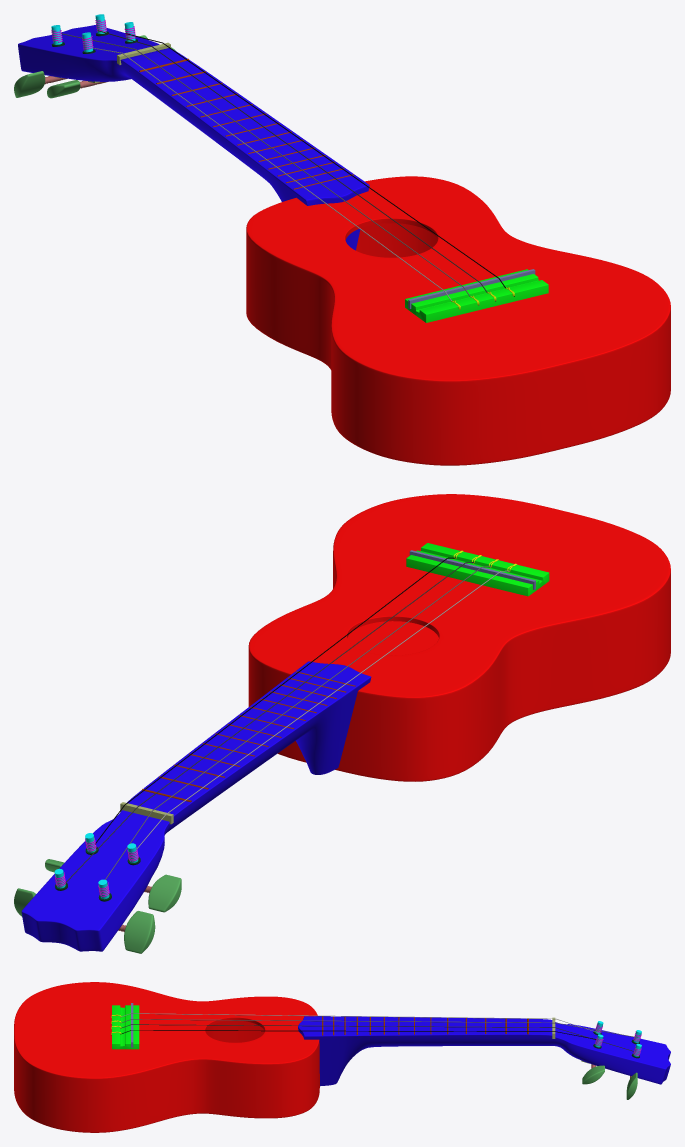
The model's file is UKELELE.FBX.
3 renders of one model, top to bottom at view 1: azimuth 30°, elevation 25°; view 2: azimuth 150°, elevation 25°; view 3: azimuth 270°, elevation 25°, orthographic. The views are drawn at different scales.
Parts seen in each view (by area): view 1: pCube10, pCube16, pCube17, pCylinder29, pCube18, pCylinder30, pCylinder31; view 2: pCube10, pCube16, pCube17, pCube24, pCube25, pCylinder30, pCylinder29, pCube18, pCylinder28, pCylinder31; view 3: pCube10, pCube16, pCube17, pCylinder29, pCylinder30, pCylinder28, pCylinder31, pCube19.
Part boxes in pixels (bbox=[...]): pCube10: bbox=[246, 176, 670, 465]; pCube16: bbox=[18, 25, 369, 250]; pCube17: bbox=[405, 269, 548, 322]; pCylinder29: bbox=[61, 33, 479, 305]; pCube18: bbox=[408, 269, 535, 308]; pCylinder30: bbox=[98, 30, 495, 301]; pCylinder31: bbox=[125, 33, 514, 296]; pCube10: bbox=[248, 494, 670, 781]; pCube16: bbox=[21, 661, 371, 951]; pCube17: bbox=[406, 543, 549, 596]; pCube24: bbox=[124, 911, 155, 953]; pCube25: bbox=[148, 874, 181, 912]; pCylinder30: bbox=[64, 562, 473, 883]; pCylinder29: bbox=[105, 566, 490, 879]; pCube18: bbox=[409, 550, 535, 589]; pCylinder28: bbox=[137, 570, 509, 848]; pCylinder31: bbox=[95, 557, 455, 844]; pCube10: bbox=[14, 982, 319, 1132]; pCube16: bbox=[298, 1016, 670, 1086]; pCube17: bbox=[112, 1005, 139, 1049]; pCylinder29: bbox=[111, 1019, 638, 1037]; pCylinder30: bbox=[120, 1024, 633, 1051]; pCylinder28: bbox=[120, 1013, 598, 1032]; pCylinder31: bbox=[111, 1030, 596, 1039]; pCube19: bbox=[582, 1065, 604, 1084].
Bounding box in the file's own units: 1.48 × 0.4525 × 4.27.
